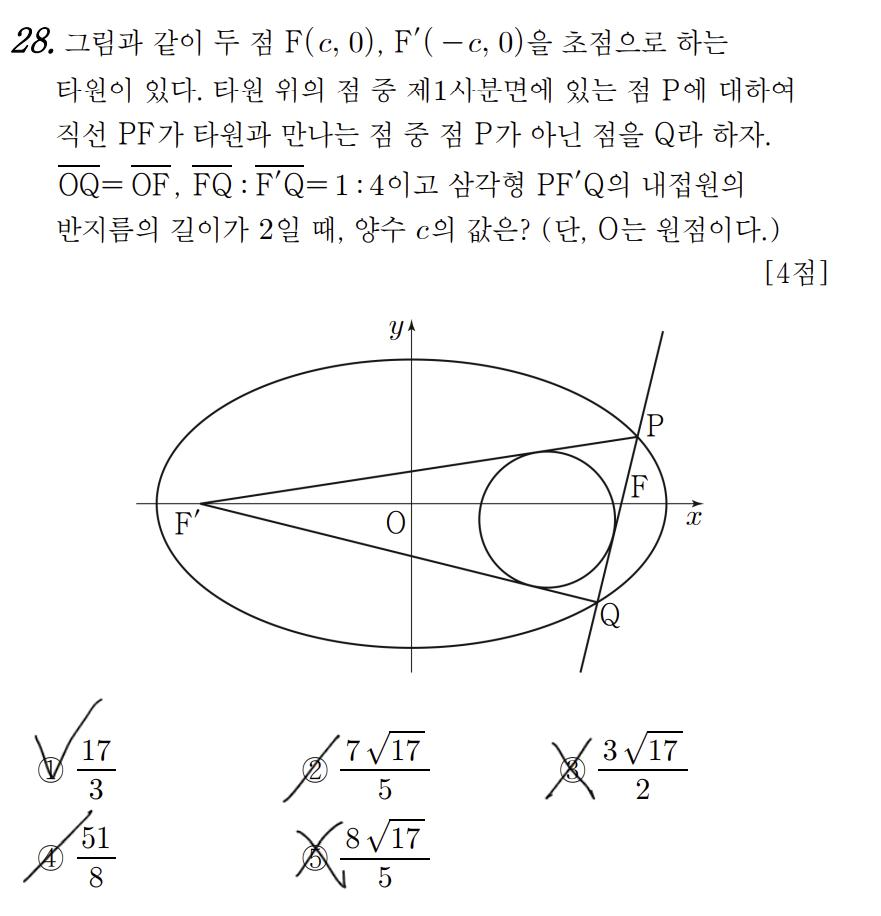1: (35, 706, 78, 785)
paper: (34, 754, 68, 789), (298, 755, 332, 790), (554, 753, 588, 788), (296, 842, 330, 877), (35, 842, 69, 877)
